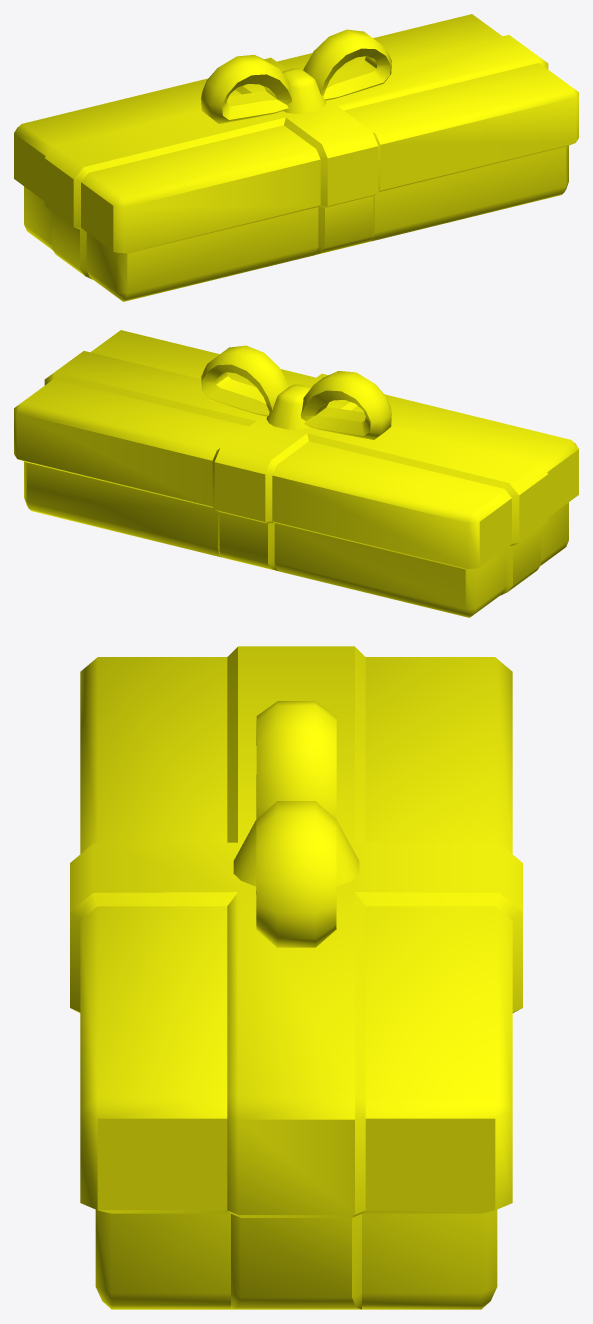
File: kaykit-present-e-blue.glb
The picture shows the model from 3 angles, top to bottom: view 1: azimuth 30°, elevation 25°; view 2: azimuth 150°, elevation 25°; view 3: azimuth 270°, elevation 25°; orthographic projection. The views are drawn at different scales.
Parts seen in each view (by area): view 1: present_E_blue; view 2: present_E_blue; view 3: present_E_blue.
Part boxes in pixels (<box>): present_E_blue: <box>14,14,578,301</box>; present_E_blue: <box>14,330,578,617</box>; present_E_blue: <box>70,646,522,1309</box>.
Bounding box in the file's own units: 1.36 × 0.4617 × 0.5637.
